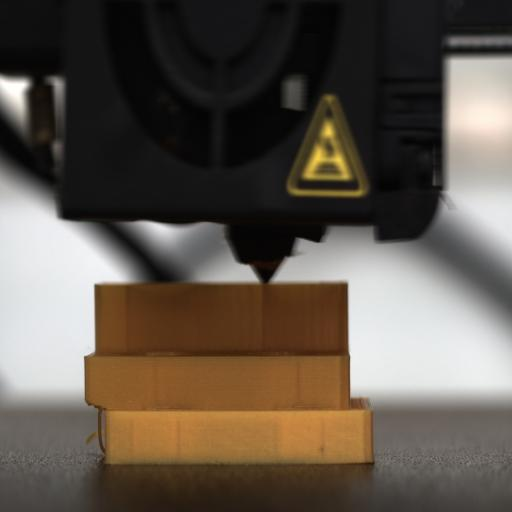layer_shift: (82, 391, 373, 423)
